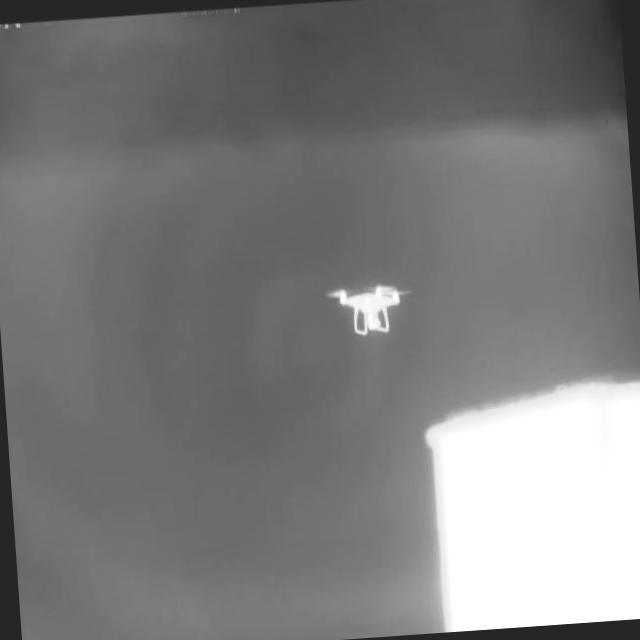DRONE: (322, 282, 414, 336)
